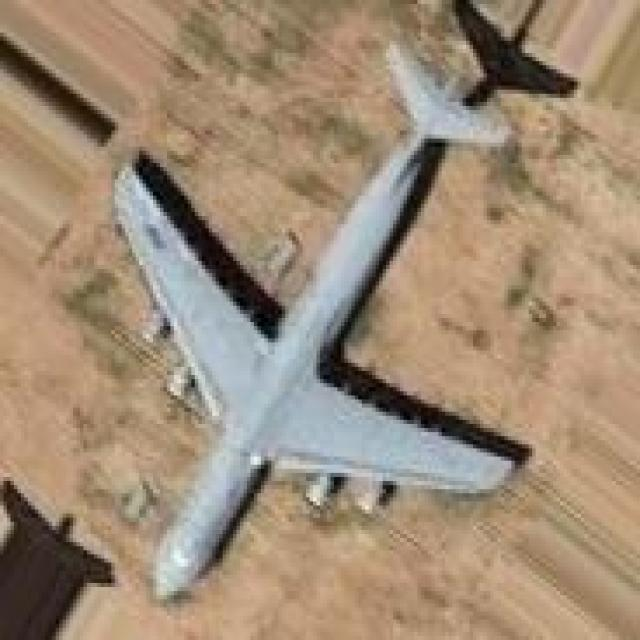C-5_TopDown: (108, 0, 580, 603)
